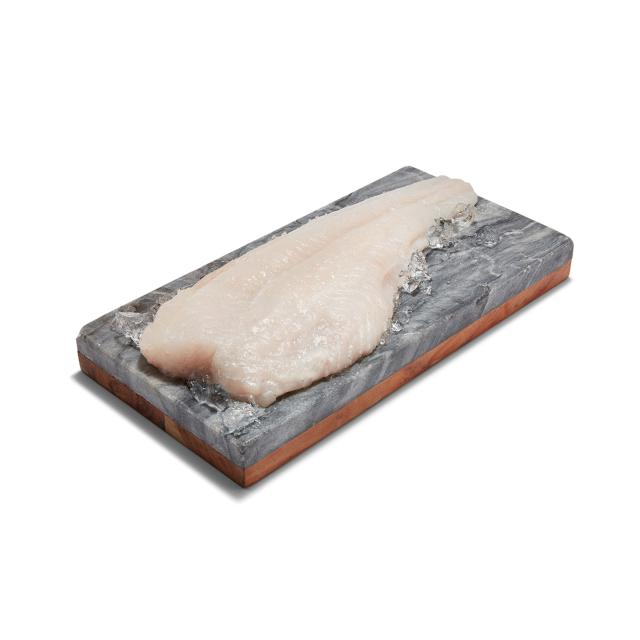Catfish: (137, 168, 483, 411)
